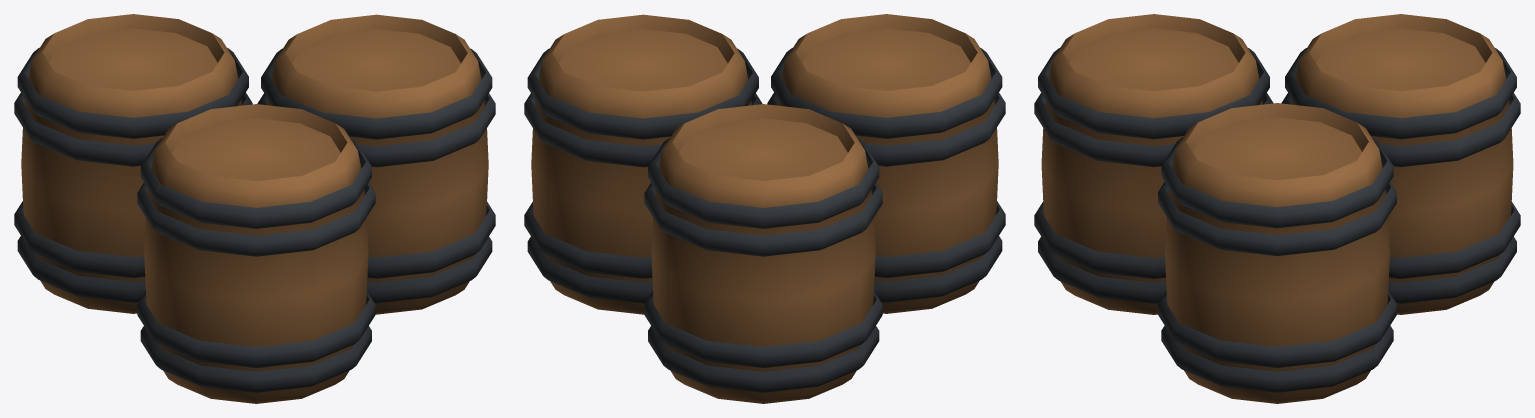
The model's file is barrel-stack.glb.
The picture shows the model from 3 angles, left to right: view 1: azimuth 30°, elevation 25°; view 2: azimuth 150°, elevation 25°; view 3: azimuth 270°, elevation 25°; orthographic projection.
Visible parts, largest first — view 1: wood, iron; view 2: wood, iron; view 3: wood, iron.
Boxes of the visible parts, <box> form: wood: <box>21,14,488,403</box>; iron: <box>14,47,495,392</box>; wood: <box>531,14,998,403</box>; iron: <box>524,47,1005,392</box>; wood: <box>1041,14,1513,403</box>; iron: <box>1034,48,1520,392</box>.
Bounding box in the file's own units: 0.6195 × 0.34 × 0.6695.
